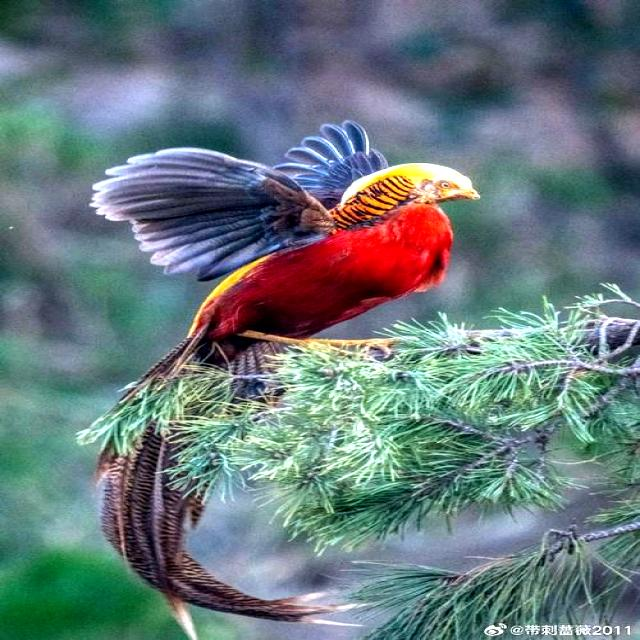Chrysolophus pictus feather: (96, 336, 376, 640)
